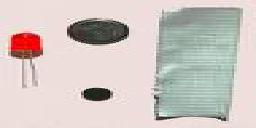LED: (9, 33, 45, 88)
